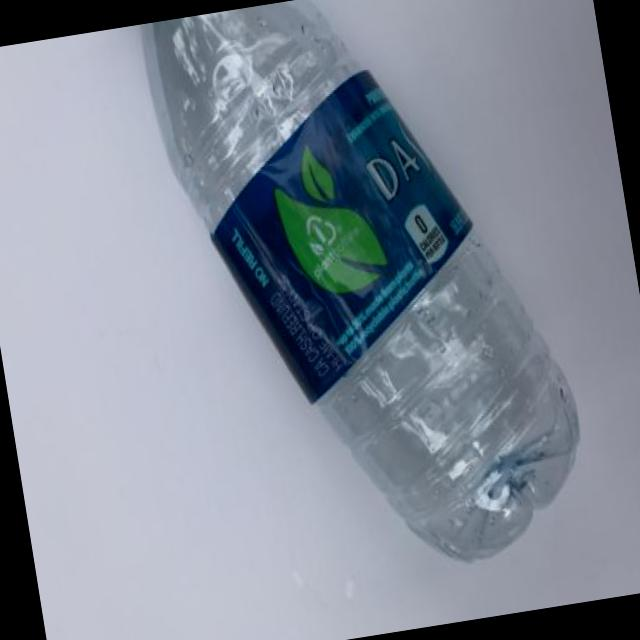Recycle: (142, 0, 598, 597)
